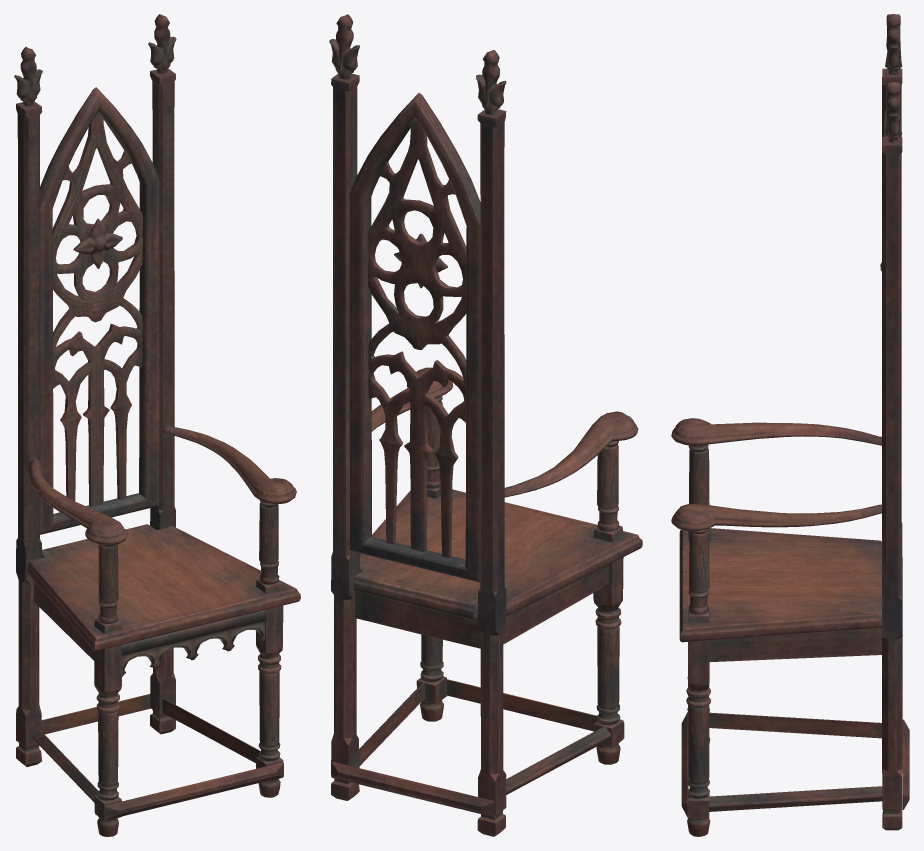
Rendered from WoodenChair_01.glb.
3 views of the same model, side by side, from view 1: azimuth 30°, elevation 25°; view 2: azimuth 150°, elevation 25°; view 3: azimuth 270°, elevation 25° (orthographic). The views are drawn at different scales.
Parts seen in each view (by area): view 1: WoodenChair_01; view 2: WoodenChair_01; view 3: WoodenChair_01.
Boxes of the visible parts, x1,y1,x2,y2 form: WoodenChair_01: (14, 14, 300, 836); WoodenChair_01: (329, 14, 642, 836); WoodenChair_01: (671, 14, 909, 836).
Size of the model in its own units: 0.6882 by 2.27 by 0.6584.
Materials: 1 (1 with a texture image).
